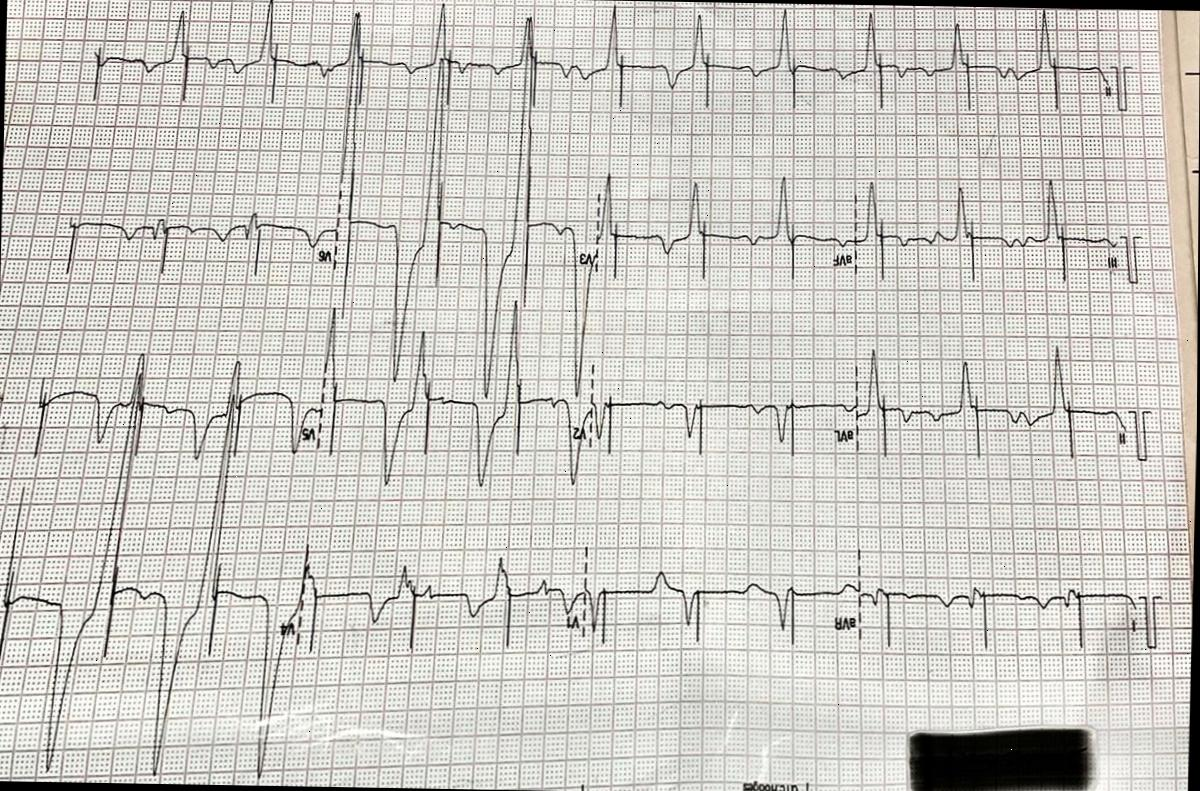Lead_I: (859, 550, 1144, 666)
Lead_II: (852, 329, 1137, 470)
Lead_III: (854, 160, 1131, 296)
Lead_II_ext: (86, 0, 1116, 128)
Lead_V1: (301, 549, 585, 669)
Lead_V2: (313, 287, 594, 498)
Lead_V3: (332, 0, 605, 409)
Lead_V4: (0, 366, 306, 784)
Lead_V5: (22, 332, 317, 490)
Lead_V6: (54, 197, 338, 286)
Lead_aVF: (593, 160, 863, 296)
Lead_aVL: (590, 364, 860, 476)
Lead_aVR: (584, 540, 860, 666)
